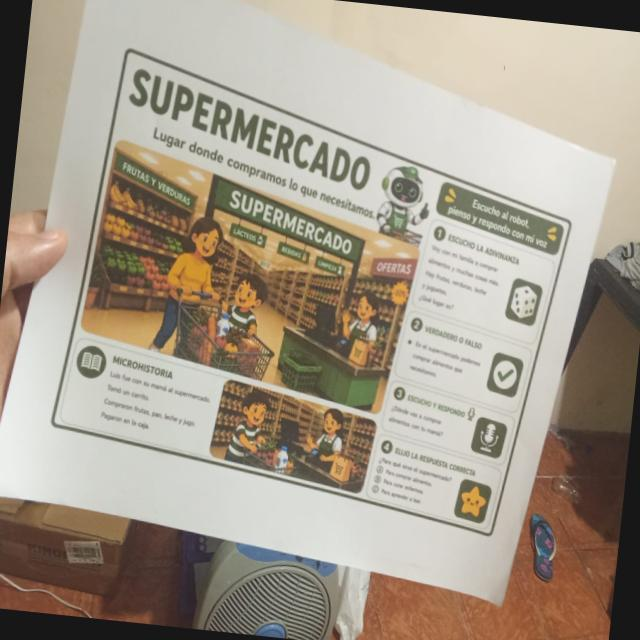supermercado: (39, 36, 588, 542)
